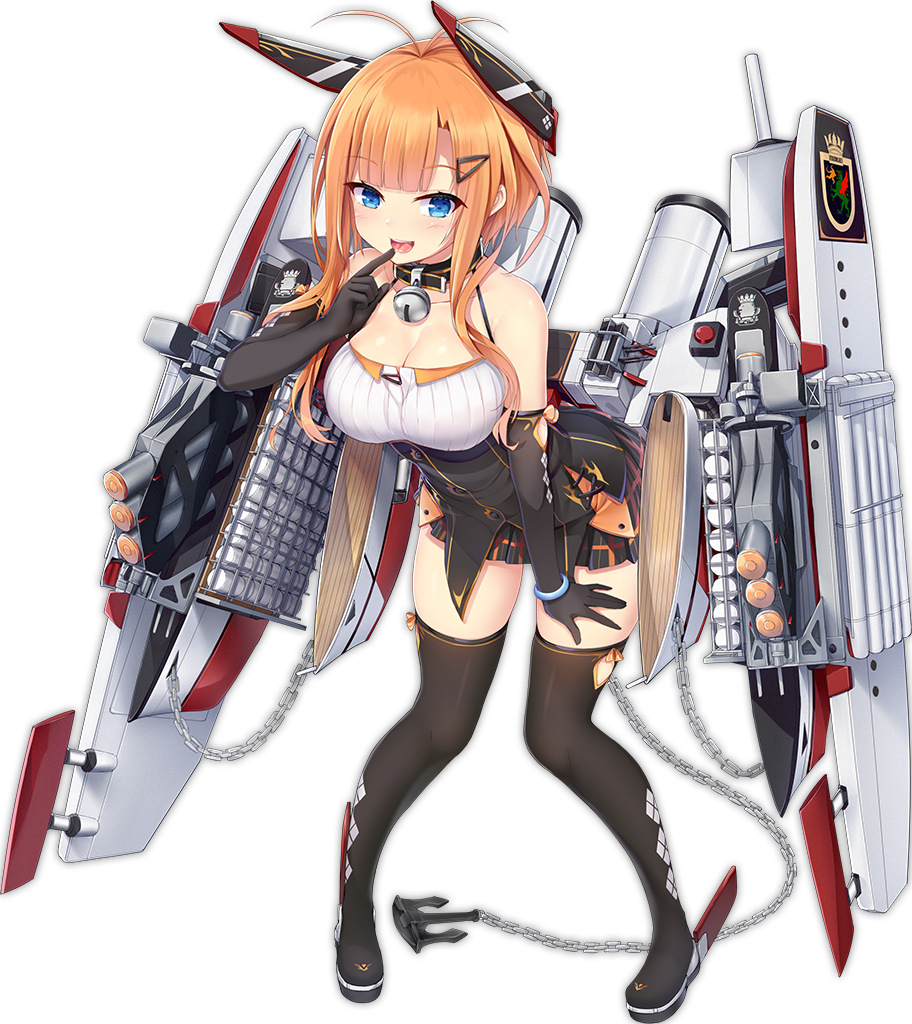person: (137, 36, 671, 832)
